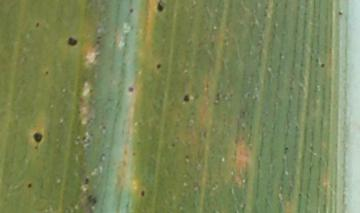tarspot: (85, 192, 99, 208), (31, 130, 44, 145), (66, 35, 78, 48), (155, 1, 167, 13), (181, 93, 191, 103), (126, 85, 135, 94), (139, 188, 147, 198), (127, 6, 135, 16), (154, 62, 162, 71), (319, 61, 327, 70), (83, 176, 90, 186), (282, 145, 289, 155), (336, 9, 344, 17), (43, 69, 50, 78), (214, 92, 221, 101), (183, 153, 190, 160), (169, 142, 176, 149), (25, 182, 33, 188), (34, 21, 40, 28), (93, 39, 100, 45), (95, 34, 102, 40)
